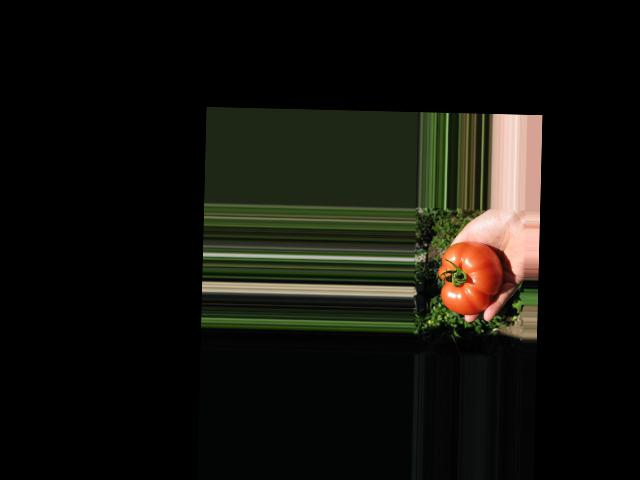tomato: (437, 241, 503, 316)
